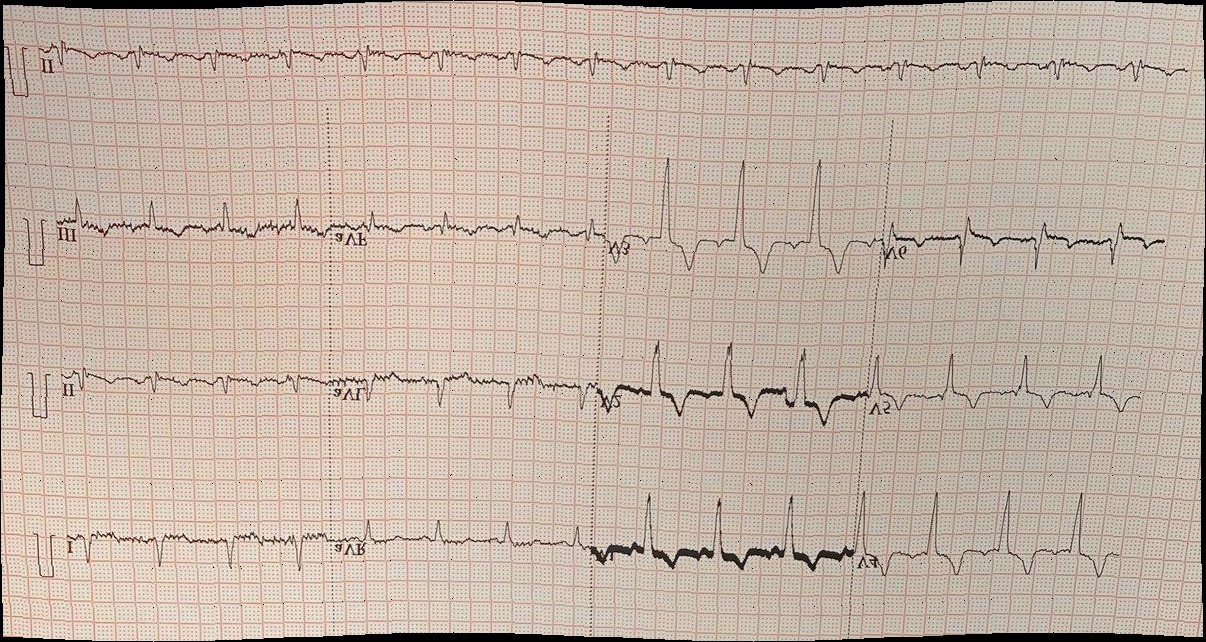Lead_I: (57, 506, 327, 585)
Lead_II: (51, 349, 326, 422)
Lead_III: (45, 181, 329, 267)
Lead_II_ext: (33, 11, 1199, 105)
Lead_V1: (592, 468, 871, 597)
Lead_V2: (594, 331, 871, 431)
Lead_V3: (605, 135, 881, 281)
Lead_V4: (850, 475, 1142, 613)
Lead_V5: (868, 346, 1155, 440)
Lead_V6: (877, 201, 1170, 288)
Lead_aVF: (328, 196, 609, 266)
Lead_aVL: (326, 360, 602, 422)
Lead_aVR: (327, 512, 590, 590)
